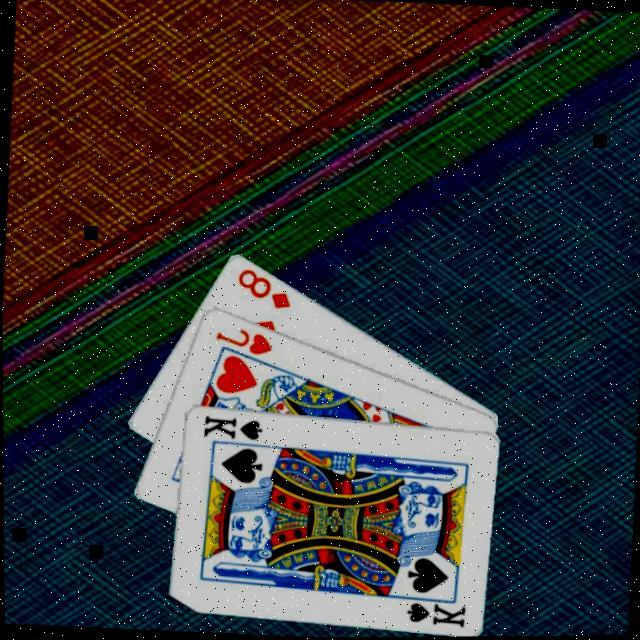8D: (231, 264, 294, 310)
JH: (210, 322, 274, 357)
KS: (396, 590, 466, 628), (198, 410, 264, 441)
